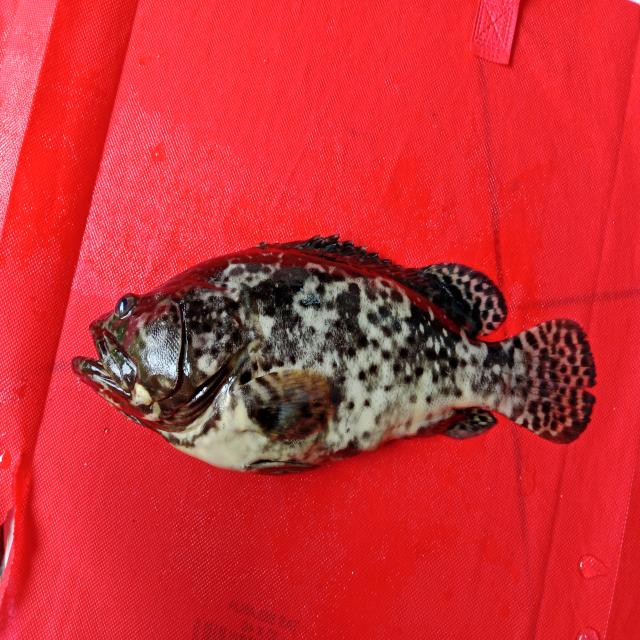ikan: (65, 209, 606, 482)
